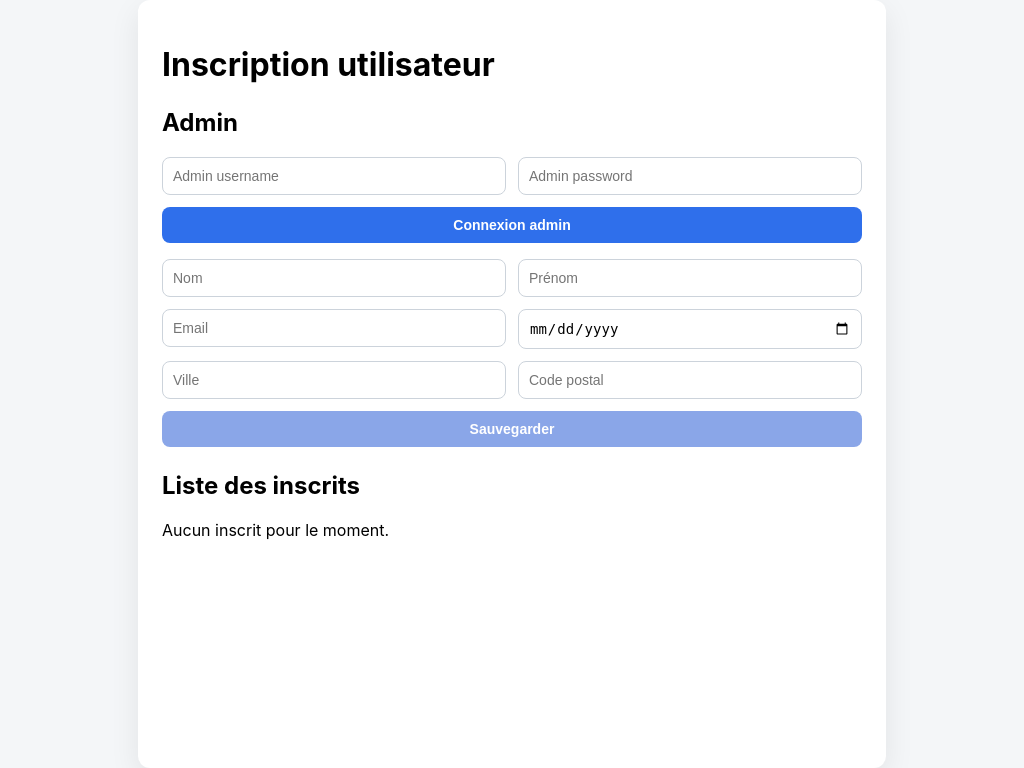
Test: affiche une erreur sous un champ invalide
Type "email-invalide" into the field labelled "Email" at (334, 328), box [162, 309, 506, 347]
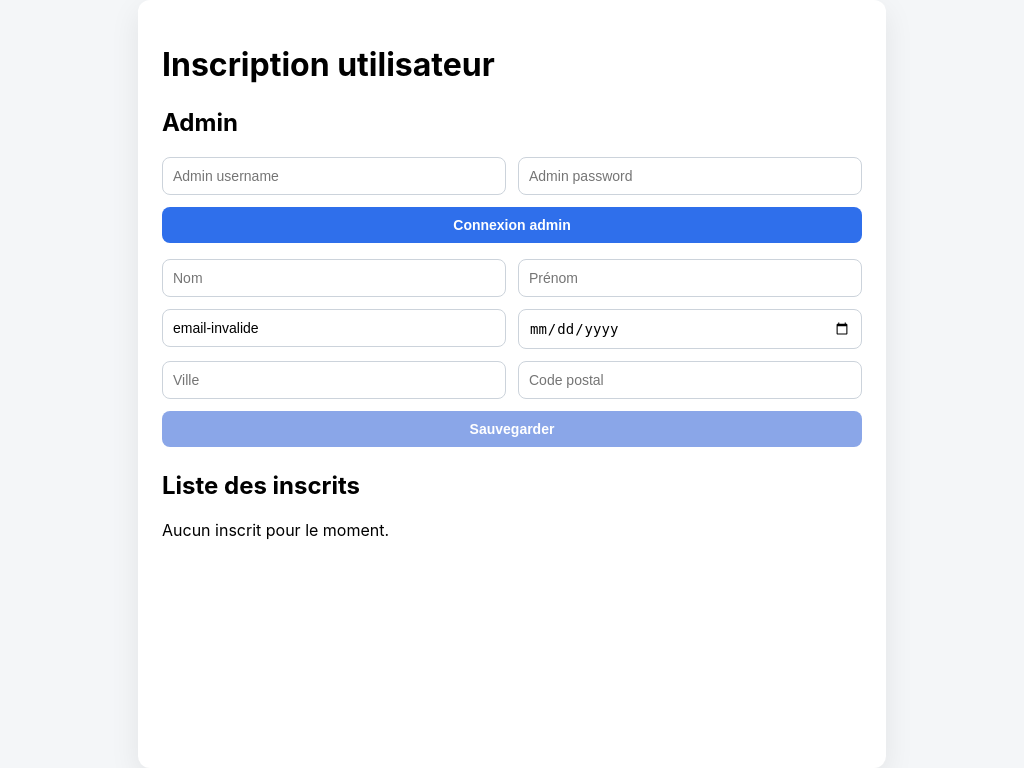
Leave the field named "Email", box [162, 309, 506, 347]
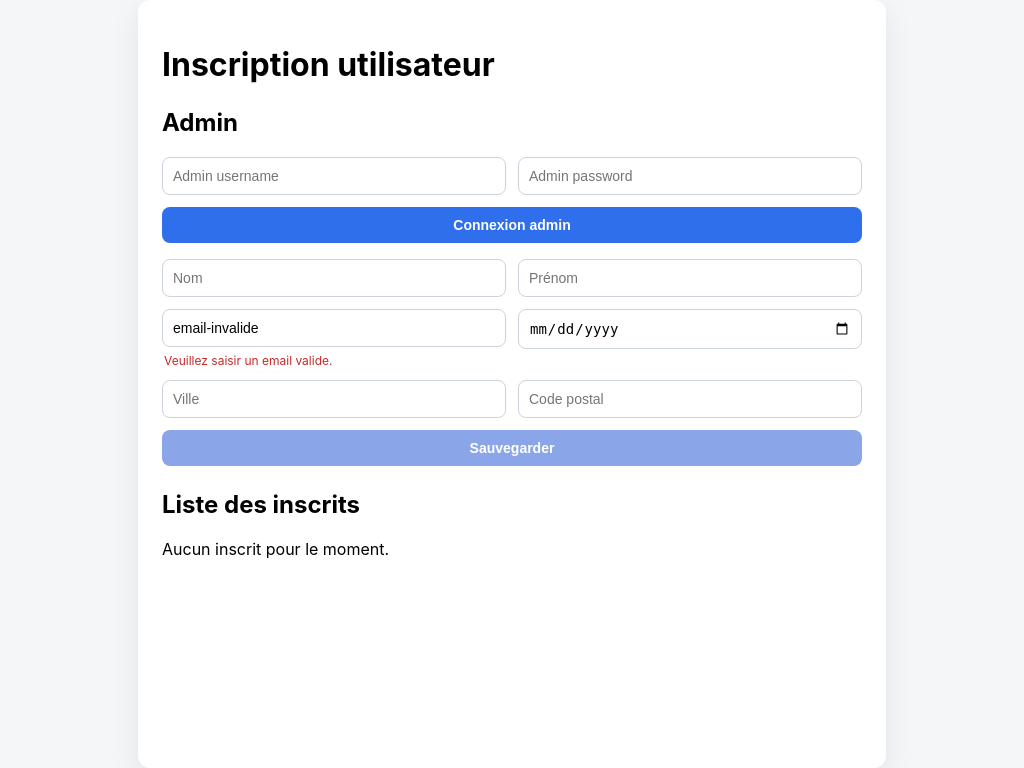
Result: the text "Veuillez saisir un email valide." is shown at [164, 353, 332, 368]
